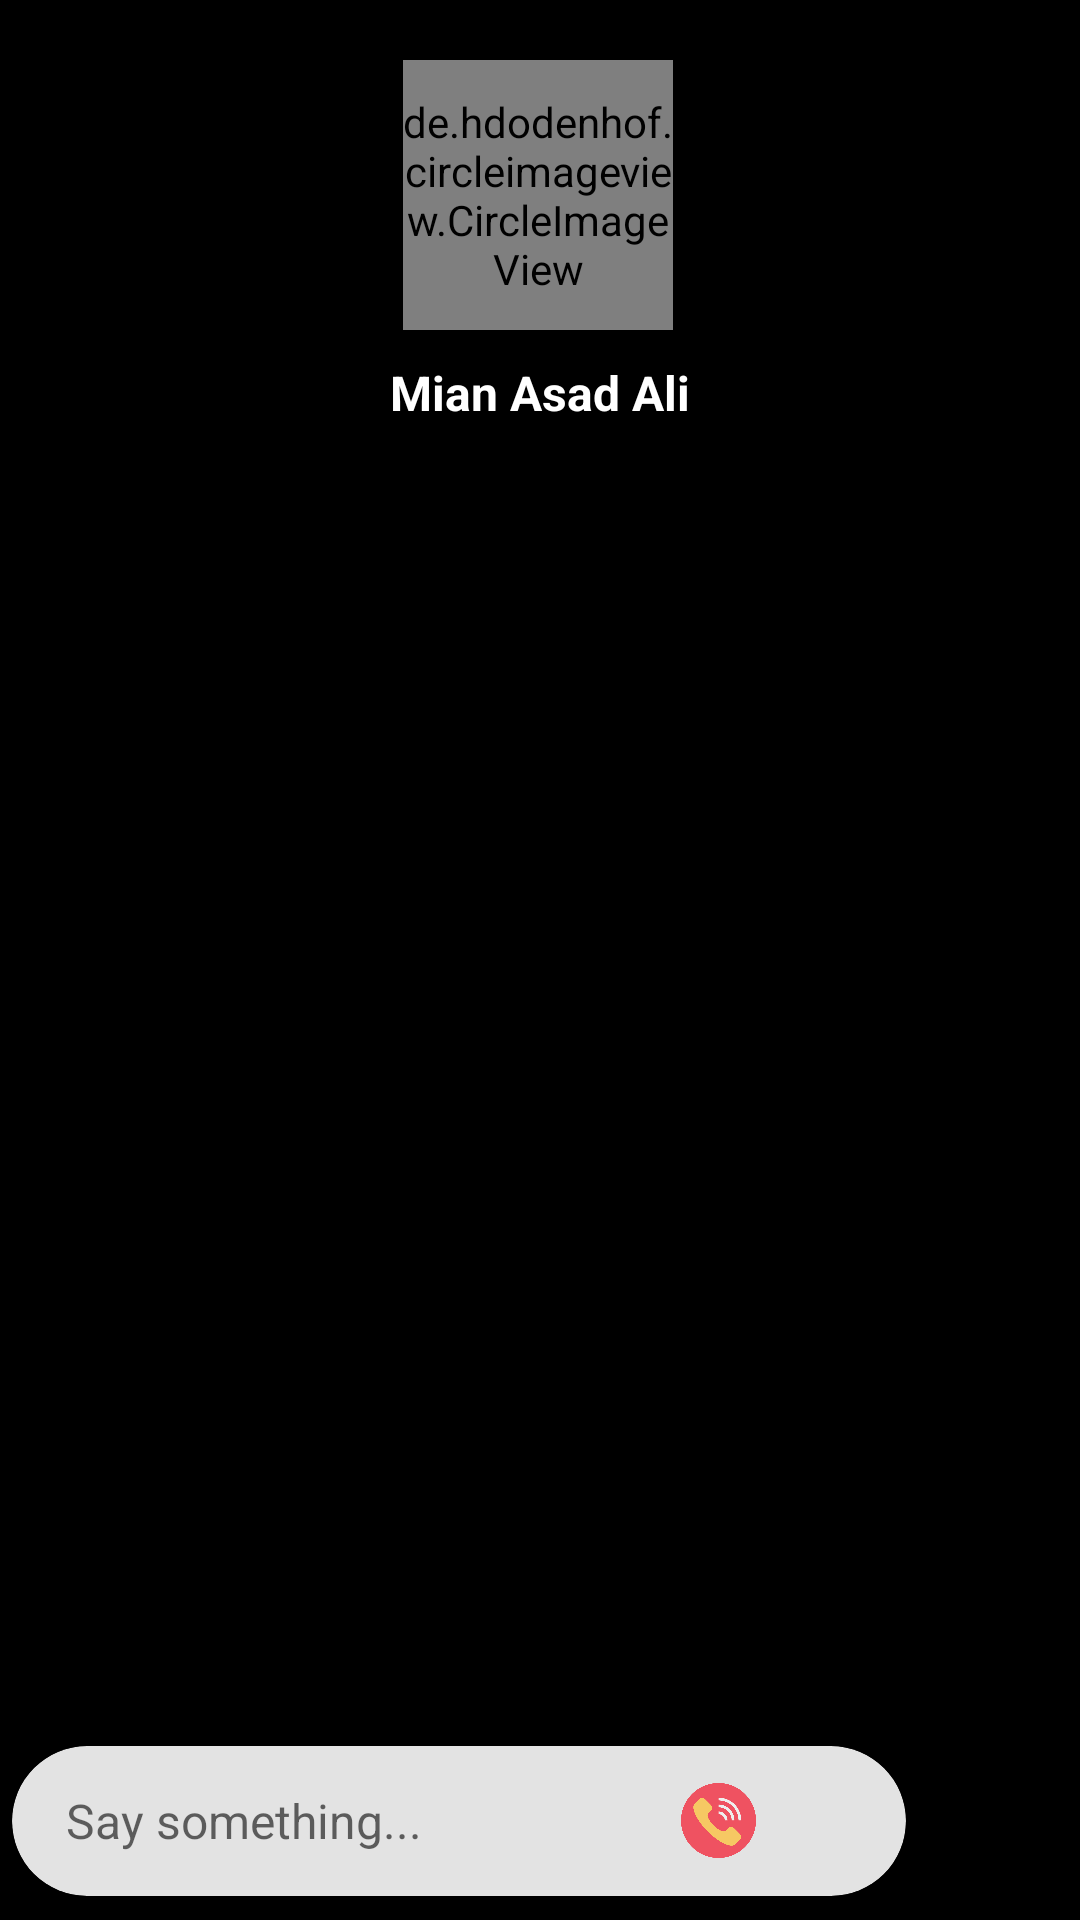

Named icons in this screenshot (1080px×1920px) and their bounding boxes, (x1, y1, x2, y2):
call: (681, 1783, 756, 1858)
